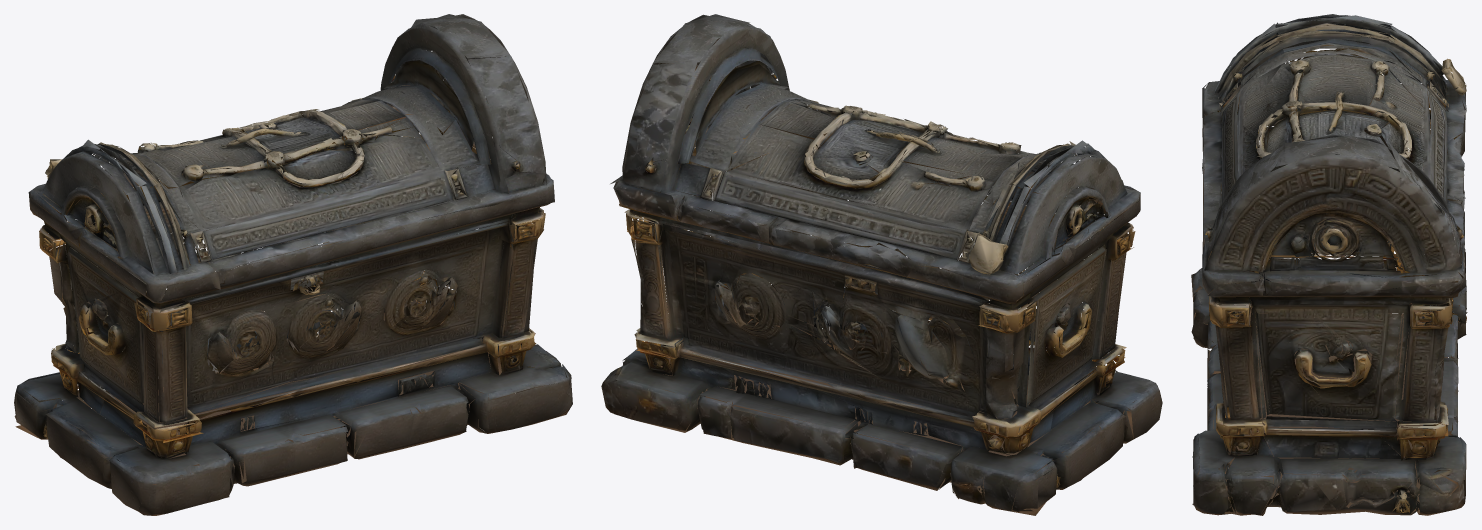
The model's file is ch7_optional_tomb_sarcophagus_LOD1.glb.
3 views of the same model, side by side, from view 1: azimuth 30°, elevation 25°; view 2: azimuth 150°, elevation 25°; view 3: azimuth 270°, elevation 25° (orthographic).
Visible parts, largest first — view 1: tripo_node_d0dc9616-0aa3-4cdb-b869-7b7e4bd80c04; view 2: tripo_node_d0dc9616-0aa3-4cdb-b869-7b7e4bd80c04; view 3: tripo_node_d0dc9616-0aa3-4cdb-b869-7b7e4bd80c04.
Part boxes in pixels (x1,y1,x2,y2): tripo_node_d0dc9616-0aa3-4cdb-b869-7b7e4bd80c04: [14, 14, 572, 515]; tripo_node_d0dc9616-0aa3-4cdb-b869-7b7e4bd80c04: [601, 14, 1162, 515]; tripo_node_d0dc9616-0aa3-4cdb-b869-7b7e4bd80c04: [1191, 14, 1467, 515].
Bounding box in the file's own units: 1 × 0.7678 × 0.5426.
1 material, 1 textured.
